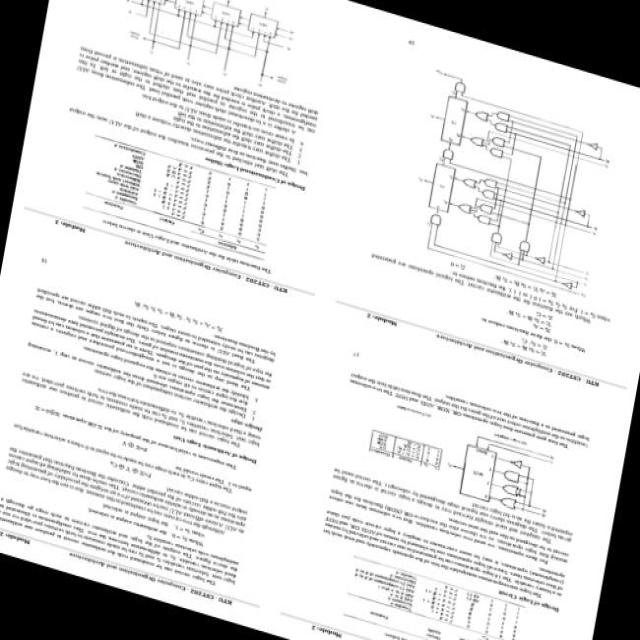Figure Detection - v3 Dataset Version2: (394, 60, 624, 302), (100, 0, 306, 99), (438, 418, 564, 524)
